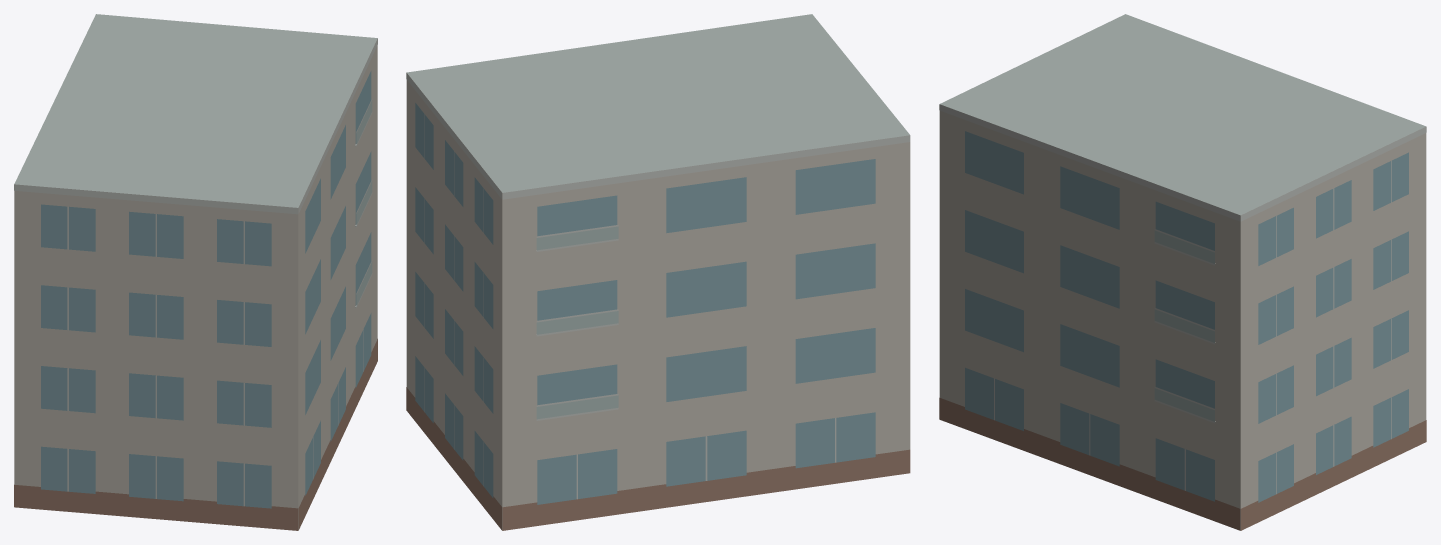
File: survey-upis-32952519.glb
3 views of the same model, side by side, from view 1: azimuth 30°, elevation 25°; view 2: azimuth 150°, elevation 25°; view 3: azimuth 270°, elevation 25° (orthographic). The views are drawn at different scales.
Visible parts, largest first — view 1: survey-upis-32952519.tmp; view 2: survey-upis-32952519.tmp; view 3: survey-upis-32952519.tmp.
Boxes of the visible parts, x1=… form: survey-upis-32952519.tmp: x1=14, y1=14, x2=377, y2=530; survey-upis-32952519.tmp: x1=406, y1=14, x2=910, y2=530; survey-upis-32952519.tmp: x1=939, y1=14, x2=1426, y2=530.
Size of the model in its own units: 16.71 by 12.2 by 17.08.
